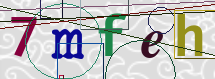7: (9, 15, 38, 59)
e: (139, 29, 166, 59)
f: (95, 12, 131, 58)
h: (175, 11, 204, 57)
m: (50, 26, 87, 61)
